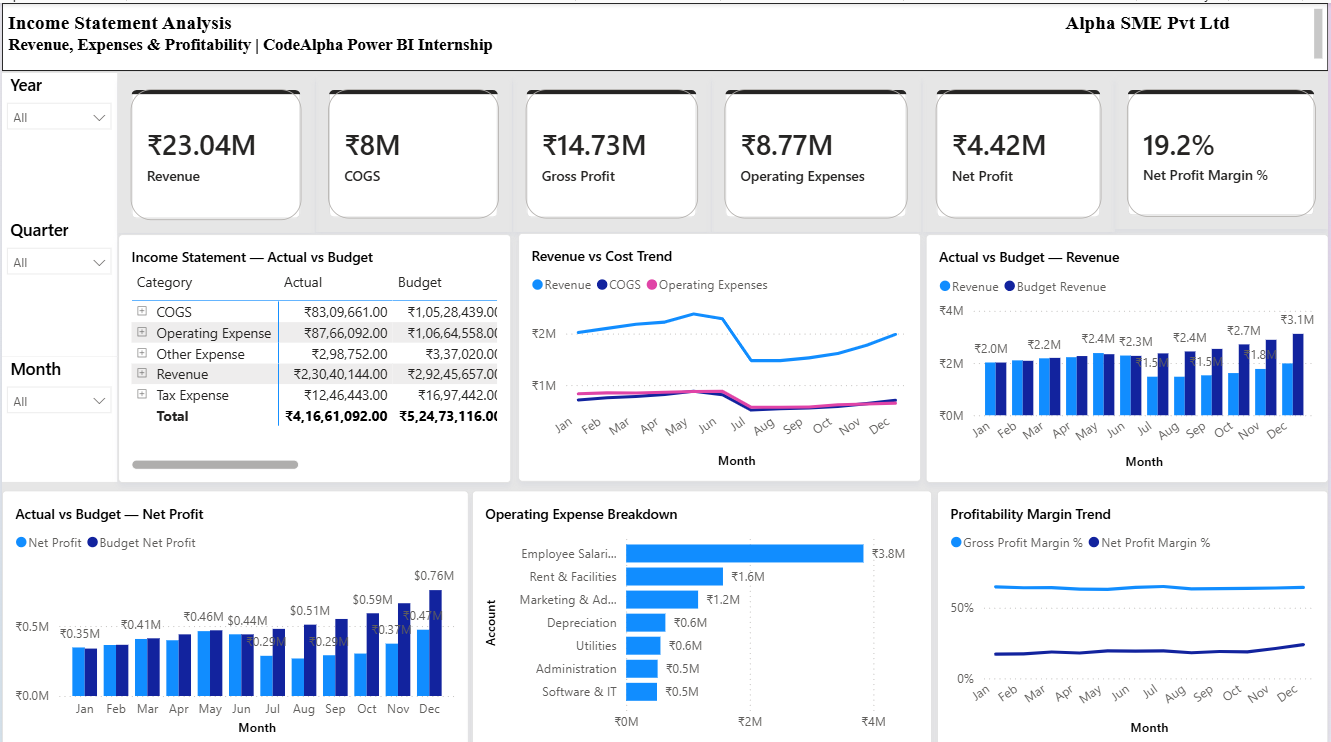

What the dashboard file says about the page in this screenshot:
{"tool":"powerbi","page":{"name":"Income Statement","canvas":[1280,720],"ordinal":1},"visuals":[{"type":"slicer","fields":{"Values":["Calendar.Year"]},"box":[0,67.6,111,139.9],"z":0},{"type":"slicer","fields":{"Values":["Calendar.Quarter"]},"box":[0,207.5,111,133.9],"z":1000},{"type":"slicer","fields":{"Values":["Calendar.Month"]},"box":[0,341.4,111,120.6],"z":2000},{"type":"textbox","box":[0,0,1280.3,65.9],"z":3000},{"type":"cardVisual","title":"Net Profit","fields":{"Data":["Calendar.Gross Profit"]},"box":[493.4,71.2,190.6,149.6],"z":4000},{"type":"cardVisual","title":"Net Profit Margin %","fields":{"Data":["Calendar.Operating Expenses"]},"box":[685.3,71.2,201.5,149.6],"z":5000},{"type":"cardVisual","title":"Closing Assets","fields":{"Data":["Calendar.Net Profit"]},"box":[889.1,71.2,184.6,149.6],"z":6000},{"type":"cardVisual","title":"Net Cash Flow","fields":{"Data":["Calendar.Net Profit Margin %"]},"box":[1073.7,71.2,206.3,147.2],"z":7000},{"type":"cardVisual","title":"Net Profit","fields":{"Data":["Calendar.COGS"]},"box":[302.8,71.2,189.4,149.6],"z":8000},{"type":"cardVisual","title":"Net Profit","fields":{"Data":["Calendar.Revenue"]},"box":[112.5,70.9,189.5,150.4],"z":9000},{"type":"pivotTable","title":"Income Statement — Actual vs Budget","fields":{"Rows":["Financial_Data.Category","Financial_Data.Account"],"Values":["Calendar.Total Actual","Calendar.Total Budget","Calendar.Budget Variance","Calendar.Budget Variance %"]},"box":[112.2,223.2,378.8,240.1],"z":10000},{"type":"lineChart","title":"Revenue vs Cost Trend","fields":{"Category":["Calendar.Month"],"Y":["Calendar.Revenue","Calendar.COGS","Calendar.Operating Expenses"]},"box":[498.3,222,388.5,240.1],"z":11000},{"type":"clusteredColumnChart","title":"Actual vs Budget — Revenue","fields":{"Category":["Calendar.Month"],"Y":["Calendar.Revenue","Calendar.Budget Revenue"]},"box":[891.5,223.2,388.5,240.1],"z":12000},{"type":"clusteredColumnChart","title":"Actual vs Budget — Net Profit","fields":{"Category":["Calendar.Month"],"Y":["Calendar.Net Profit","Calendar.Budget Net Profit"]},"box":[0,470.5,450,249.7],"z":13000},{"type":"clusteredBarChart","title":"Operating Expense Breakdown","fields":{"Category":["Financial_Data.Account"],"Y":["Calendar.Total Actual"]},"box":[453.6,470.5,444,249.7],"z":14000},{"type":"lineChart","title":"Profitability Margin Trend","fields":{"Category":["Calendar.Month"],"Y":["Calendar.Gross Profit Margin %","Calendar.Net Profit Margin %"]},"box":[902.4,470.5,377.6,249.7],"z":15000}]}

Visuals, with their boxes in screenshot pixels (x1, y1, x2, y2), scaled from the page's 1280x720 canvas onto the 1331x742 screenshot:
slicer - Calendar.Year: {"x1": 0, "y1": 70, "x2": 115, "y2": 214}
slicer - Calendar.Quarter: {"x1": 0, "y1": 214, "x2": 115, "y2": 352}
slicer - Calendar.Month: {"x1": 0, "y1": 352, "x2": 115, "y2": 476}
textbox: {"x1": 0, "y1": 0, "x2": 1330, "y2": 68}
"Net Profit" cardVisual: {"x1": 513, "y1": 73, "x2": 711, "y2": 228}
"Net Profit Margin %" cardVisual: {"x1": 713, "y1": 73, "x2": 922, "y2": 228}
"Closing Assets" cardVisual: {"x1": 925, "y1": 73, "x2": 1116, "y2": 228}
"Net Cash Flow" cardVisual: {"x1": 1116, "y1": 73, "x2": 1330, "y2": 225}
"Net Profit" cardVisual: {"x1": 315, "y1": 73, "x2": 512, "y2": 228}
"Net Profit" cardVisual: {"x1": 117, "y1": 73, "x2": 314, "y2": 228}
"Income Statement — Actual vs Budget" pivotTable: {"x1": 117, "y1": 230, "x2": 511, "y2": 477}
"Revenue vs Cost Trend" lineChart: {"x1": 518, "y1": 229, "x2": 922, "y2": 476}
"Actual vs Budget — Revenue" clusteredColumnChart: {"x1": 927, "y1": 230, "x2": 1330, "y2": 477}
"Actual vs Budget — Net Profit" clusteredColumnChart: {"x1": 0, "y1": 485, "x2": 468, "y2": 741}
"Operating Expense Breakdown" clusteredBarChart: {"x1": 472, "y1": 485, "x2": 933, "y2": 741}
"Profitability Margin Trend" lineChart: {"x1": 938, "y1": 485, "x2": 1330, "y2": 741}
